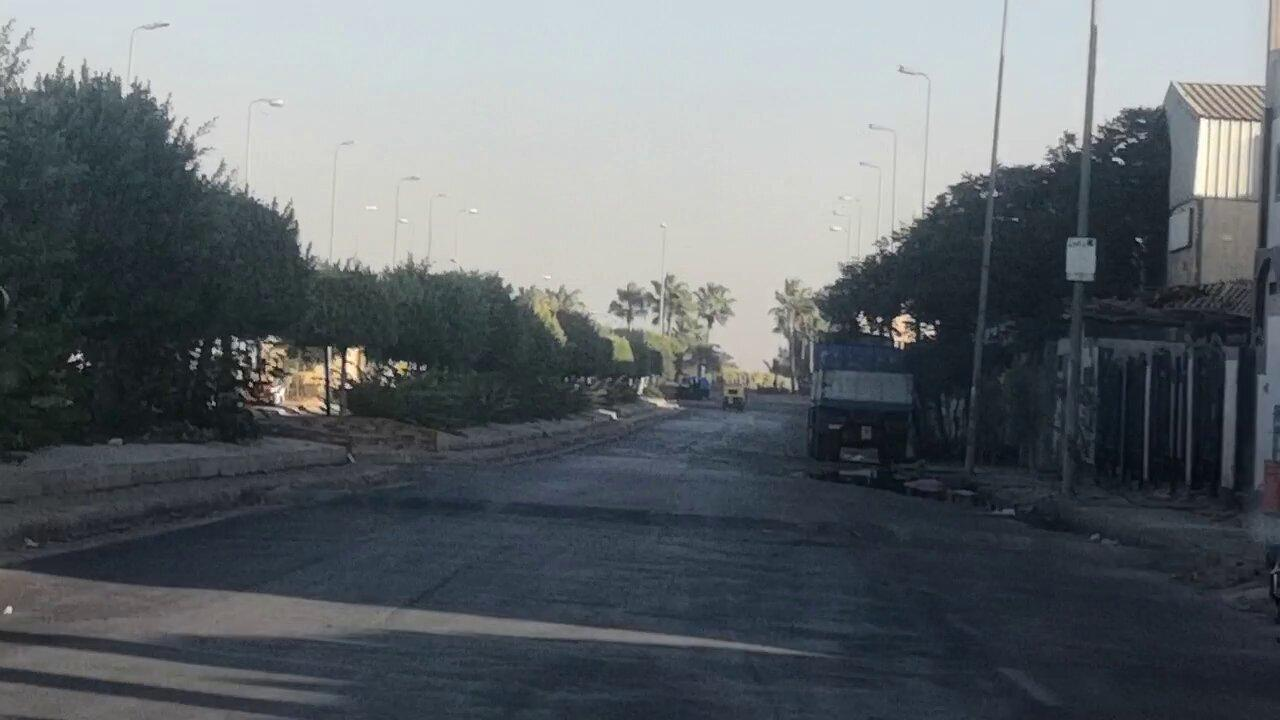Bump: (340, 483, 1113, 565)
